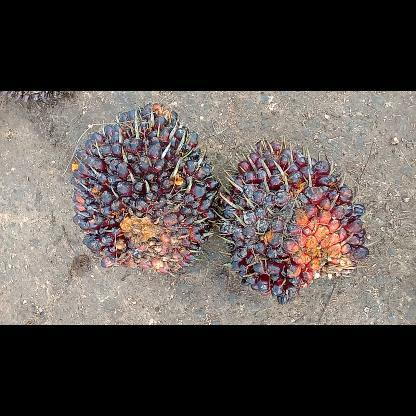Kurang masak: (67, 101, 220, 277), (217, 134, 371, 308)
